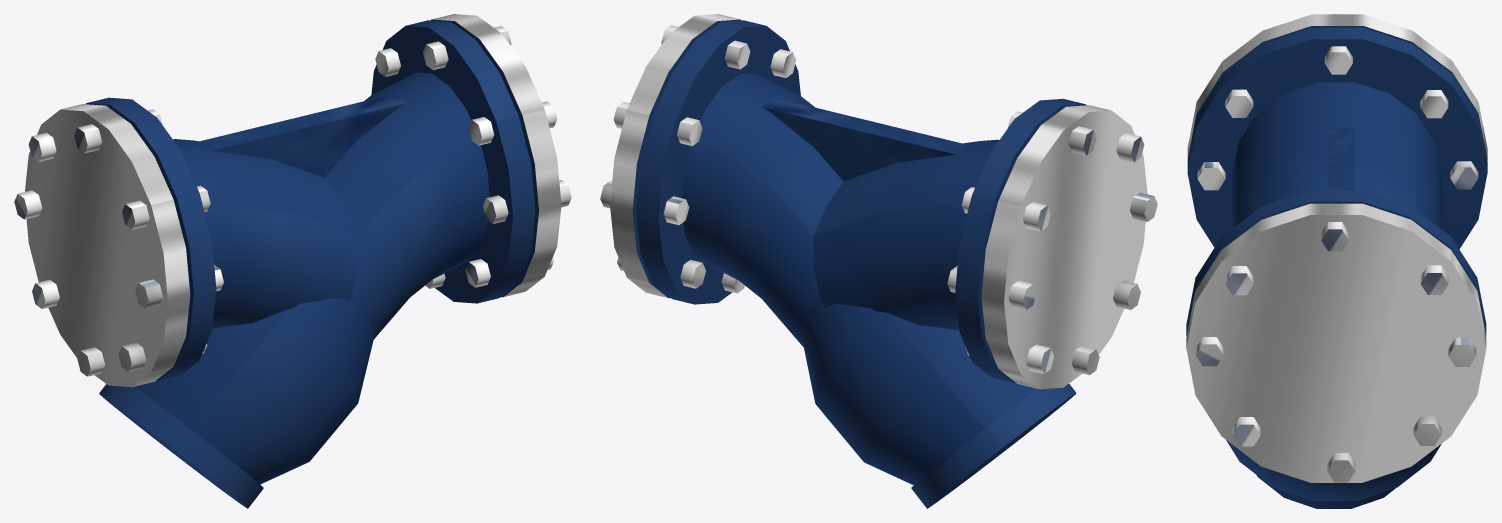
Rendered from 歪形过滤器.obj.
3 renders of one model, left to right at view 1: azimuth 30°, elevation 25°; view 2: azimuth 150°, elevation 25°; view 3: azimuth 270°, elevation 25°, orthographic. The views are drawn at different scales.
Visible parts, largest first — view 1: Cylinder046, Cylinder056, Cylinder057, Cylinder041, Cylinder032, Cylinder031, Cylinder047, Box004, Cylinder058, Cylinder055, Cylinder039, Cylinder035 (+9 smaller); view 2: Cylinder046, Cylinder056, Cylinder057, Cylinder041, Cylinder032, Cylinder031, Cylinder047, Box004, Cylinder058, Cylinder040, Cylinder050, Cylinder054 (+9 smaller); view 3: Cylinder031, Cylinder047, Cylinder041, Cylinder046, Cylinder032, Cylinder057, Box004, Cylinder058, Cylinder034, Cylinder036, Cylinder037, Cylinder038 (+9 smaller).
Part boxes in pixels (x1,y1,x2,y2): Cylinder046: [25, 104, 190, 387]; Cylinder056: [324, 72, 489, 338]; Cylinder057: [135, 289, 375, 484]; Cylinder041: [173, 139, 358, 328]; Cylinder032: [371, 20, 535, 303]; Cylinder031: [430, 14, 561, 297]; Cylinder047: [85, 97, 216, 380]; Box004: [199, 94, 405, 177]; Cylinder058: [99, 384, 263, 508]; Cylinder055: [122, 185, 210, 229]; Cylinder039: [468, 101, 557, 145]; Cylinder035: [483, 180, 571, 223]; Cylinder046: [981, 105, 1147, 389]; Cylinder056: [682, 73, 843, 348]; Cylinder057: [801, 290, 1036, 485]; Cylinder041: [813, 139, 999, 330]; Cylinder032: [636, 20, 800, 304]; Cylinder031: [610, 14, 741, 298]; Cylinder047: [955, 98, 1086, 382]; Box004: [762, 97, 968, 181]; Cylinder058: [911, 384, 1076, 508]; Cylinder040: [613, 101, 702, 145]; Cylinder050: [947, 266, 1036, 310]; Cylinder054: [961, 187, 1050, 231]; Cylinder031: [1186, 203, 1486, 482]; Cylinder047: [1187, 27, 1487, 249]; Cylinder041: [1232, 82, 1441, 228]; Cylinder046: [1187, 14, 1487, 159]; Cylinder032: [1186, 190, 1486, 335]; Cylinder057: [1226, 440, 1441, 500]; Box004: [1327, 128, 1354, 190]; Cylinder058: [1256, 475, 1395, 508]; Cylinder034: [1448, 337, 1476, 366]; Cylinder036: [1327, 453, 1355, 482]; Cylinder037: [1413, 416, 1441, 445]; Cylinder038: [1232, 417, 1260, 446].
Size of the model in its own units: 52.2 by 48.2 by 30.84.
